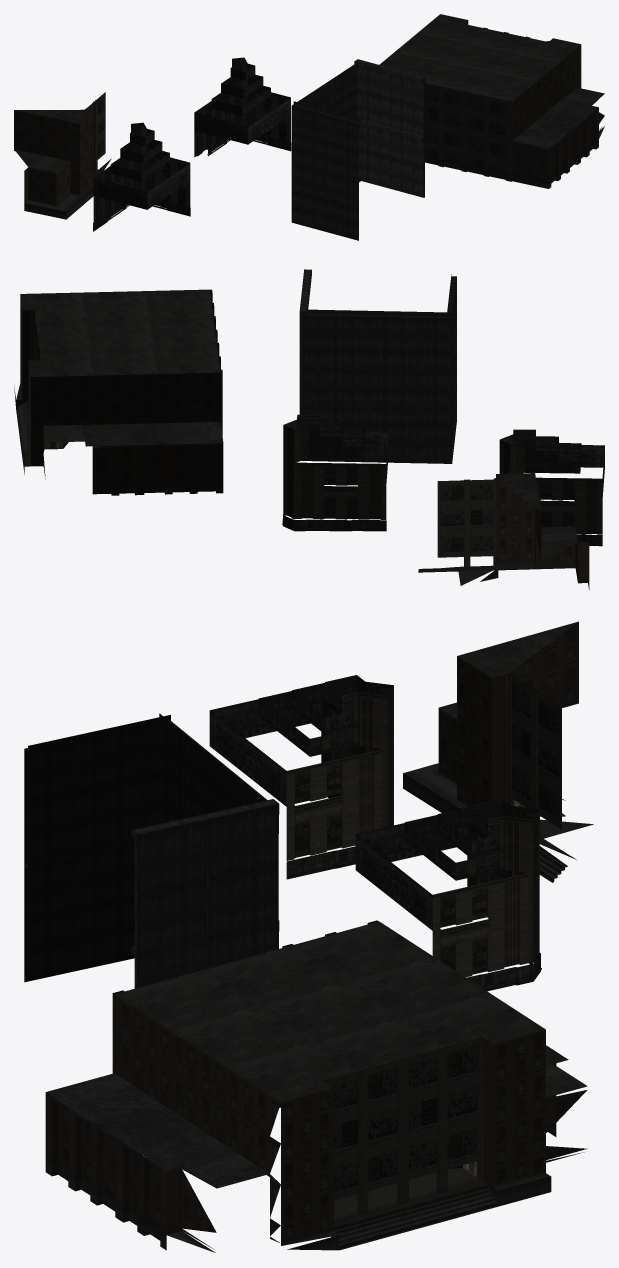
Rendered from cell_7_3.gltf.
3 renders of one model, top to bottom at view 1: azimuth 30°, elevation 25°; view 2: azimuth 150°, elevation 25°; view 3: azimuth 270°, elevation 25°, orthographic. The views are drawn at different scales.
Parts seen in each view (by area): view 1: cell_7_3; view 2: cell_7_3; view 3: cell_7_3.
Part boxes in pixels (x1=…): cell_7_3: x1=14, y1=14, x2=604, y2=240; cell_7_3: x1=14, y1=269, x2=604, y2=590; cell_7_3: x1=24, y1=621, x2=593, y2=1252.
Size of the model in its own units: 263 by 58.47 by 126.
Materials: 13 (13 with a texture image).
